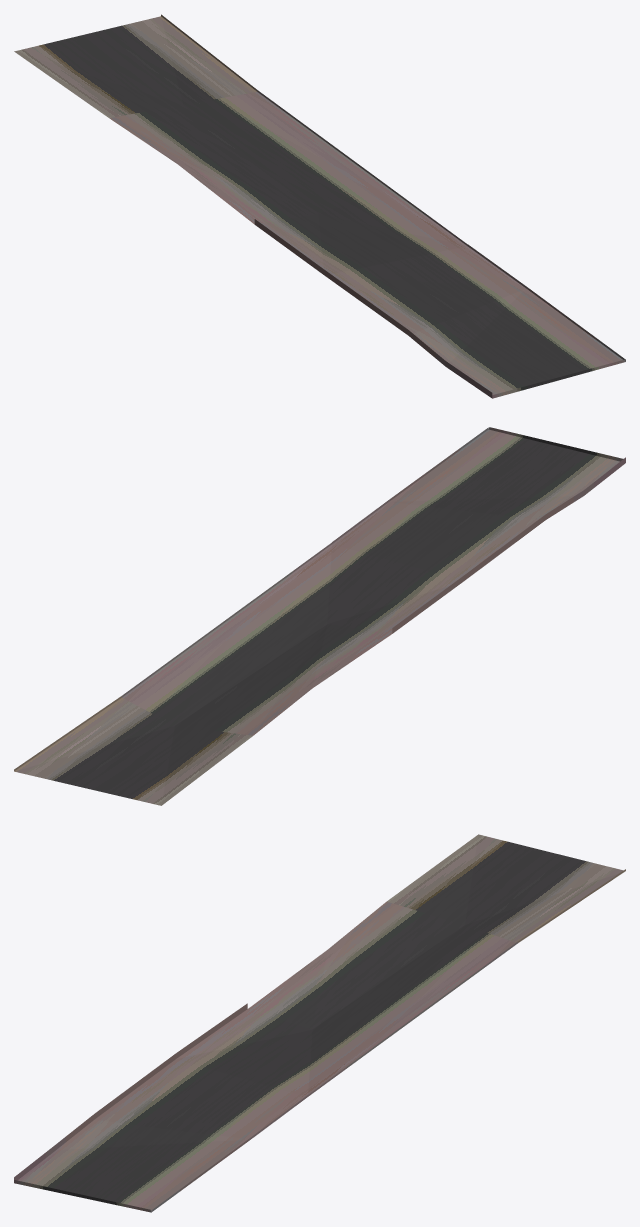
The model's file is lodlae2_roads30.obj.
The picture shows the model from 3 angles, top to bottom: view 1: azimuth 30°, elevation 25°; view 2: azimuth 150°, elevation 25°; view 3: azimuth 330°, elevation 25°; orthographic projection.
Parts seen in each view (by area): view 1: LODLae2_roads30; view 2: LODLae2_roads30; view 3: LODLae2_roads30.
Boxes of the visible parts, <box> form: LODLae2_roads30: <box>14,14,625,398</box>; LODLae2_roads30: <box>14,427,625,805</box>; LODLae2_roads30: <box>14,834,625,1212</box>.
Size of the model in its own units: 21.99 by 1.82 by 122.
Materials: 2 (2 with a texture image).
